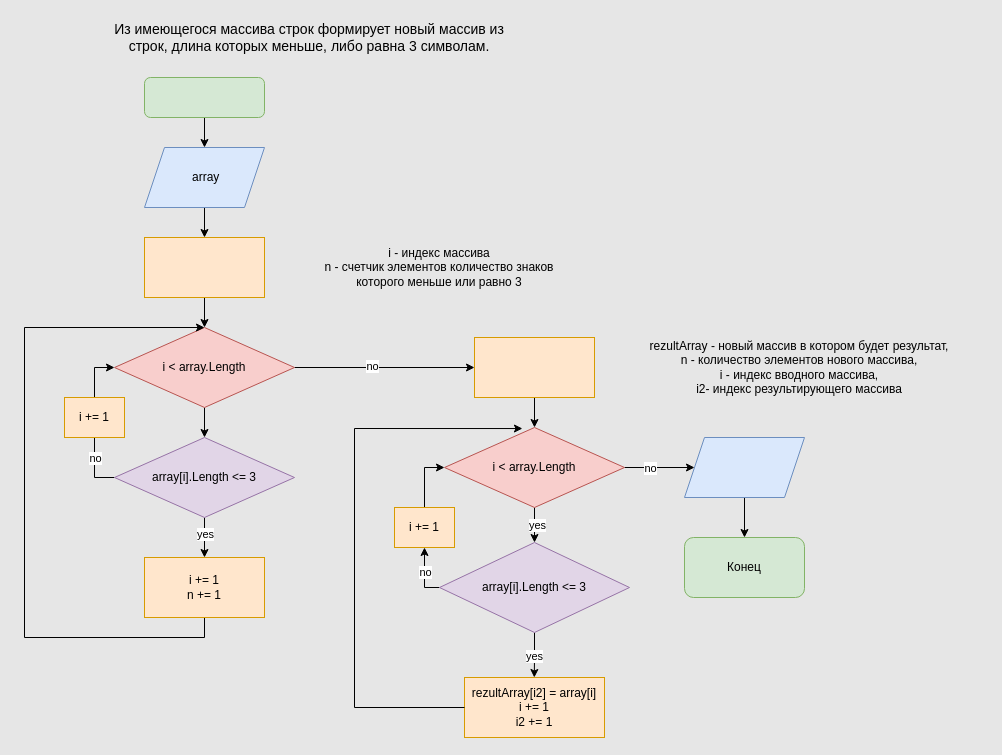
This 1002x755 diagram has some shape labels left out. Here are the shapes that lost their labels. From the top down, the box of each, then its label:
(144, 76, 264, 118): Начало
(144, 236, 264, 298): i = 0, n = 0
(474, 336, 594, 398): rezultArray(n) i = 0, i2 = 0
(684, 436, 804, 498): resultArray
